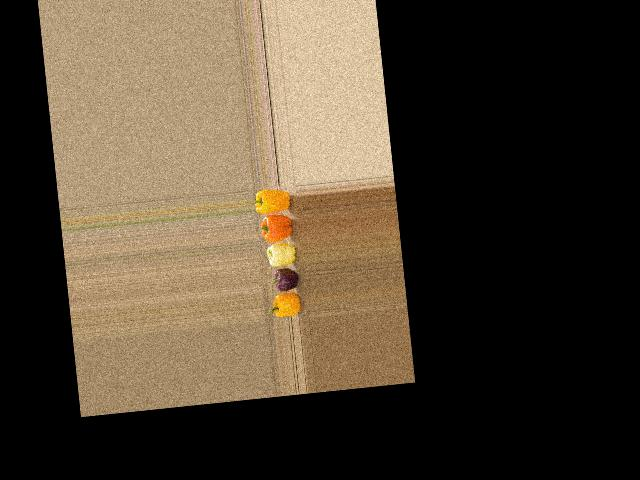bell_pepper: (266, 293, 307, 320)
